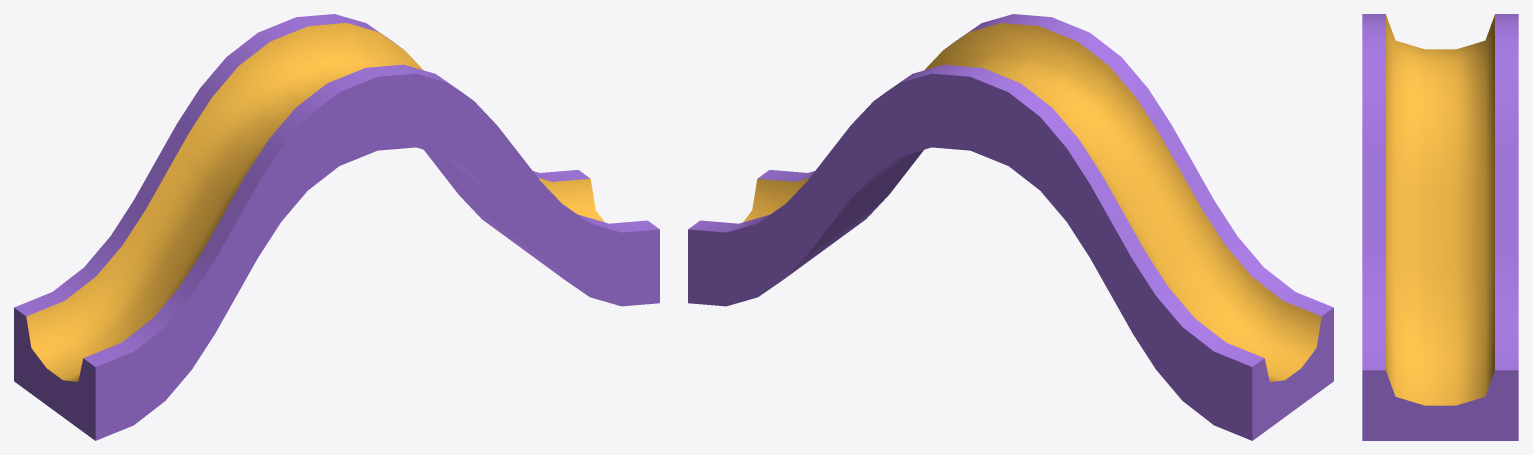
Rendered from bump-d-col.glb.
The picture shows the model from 3 angles, left to right: view 1: azimuth 30°, elevation 25°; view 2: azimuth 150°, elevation 25°; view 3: azimuth 270°, elevation 25°; orthographic projection. The views are drawn at different scales.
Visible parts, largest first — view 1: bump-d-col; view 2: bump-d-col; view 3: bump-d-col.
Part boxes in pixels (x1=…): bump-d-col: x1=14, y1=14, x2=659, y2=440; bump-d-col: x1=688, y1=14, x2=1333, y2=440; bump-d-col: x1=1362, y1=14, x2=1518, y2=440.
Bounding box in the file's own units: 4 × 2 × 1.
Materials: 1 (1 with a texture image).
